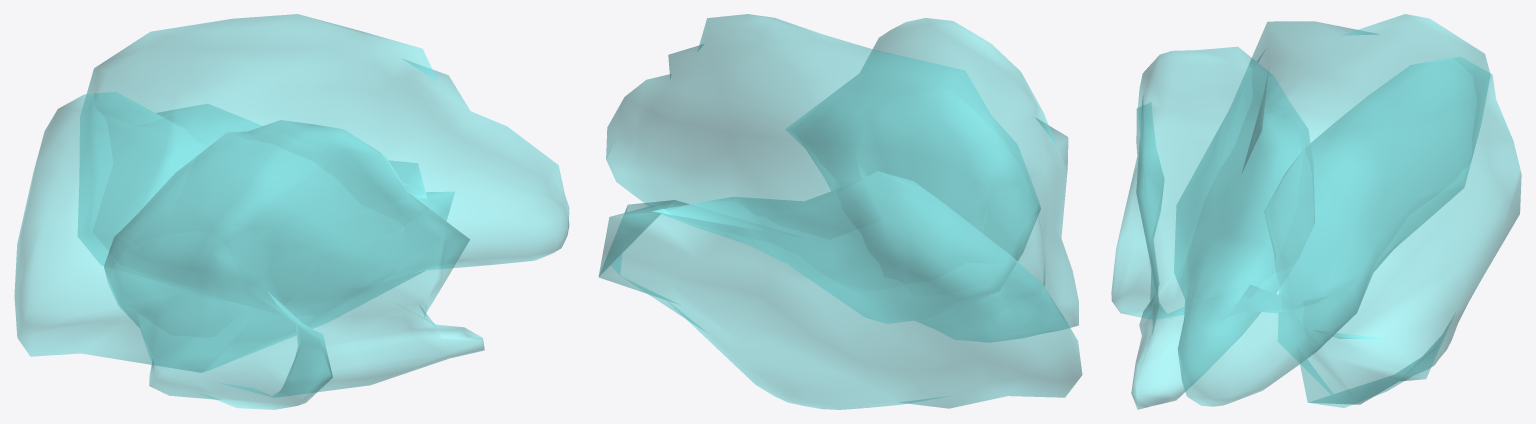
The picture shows the model from 3 angles, left to right: view 1: azimuth 30°, elevation 25°; view 2: azimuth 150°, elevation 25°; view 3: azimuth 270°, elevation 25°; orthographic projection. The views are drawn at different scales.
Parts seen in each view (by area): view 1: SM_RoughRock01_low; view 2: SM_RoughRock01_low; view 3: SM_RoughRock01_low.
Boxes of the visible parts, bbox=[...] form: SM_RoughRock01_low: bbox=[14, 14, 569, 409]; SM_RoughRock01_low: bbox=[598, 14, 1082, 409]; SM_RoughRock01_low: bbox=[1111, 14, 1521, 409].
Bounding box in the file's own units: 2.6 × 1.58 × 1.74.
